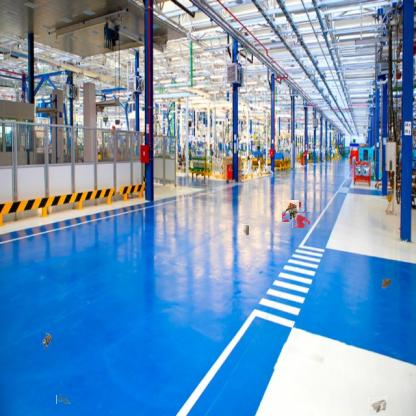dirty: (280, 201, 300, 221), (369, 396, 387, 415), (40, 332, 52, 350), (379, 277, 391, 291), (242, 224, 249, 235)
liquid: (292, 212, 310, 228), (56, 394, 71, 404)
